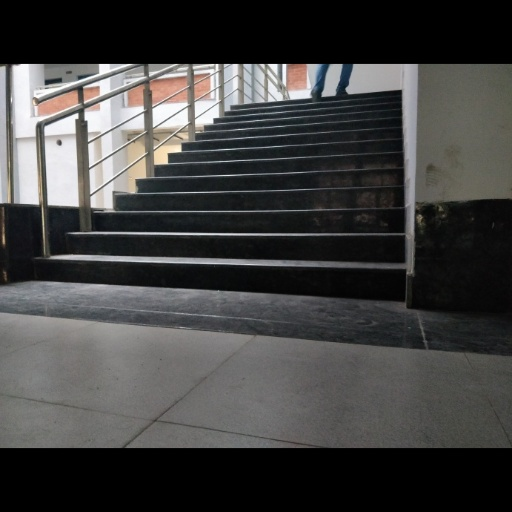Stairs: (36, 91, 405, 300)
